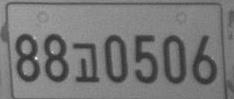0: (161, 34, 187, 83), (103, 34, 128, 83)
5: (134, 34, 158, 83)
6: (191, 34, 217, 84)
8: (14, 32, 40, 83), (43, 32, 69, 83)
고: (71, 42, 99, 82)
